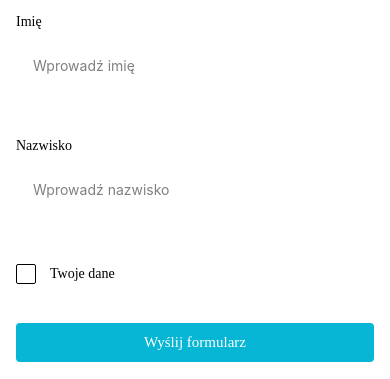
Test case: PersonalDataScreen - min error
The width and height of the screenshot is (390, 379).
Type "a" into the field with test id "input.name" at coordinates (195, 66), box [33,57,357,74]
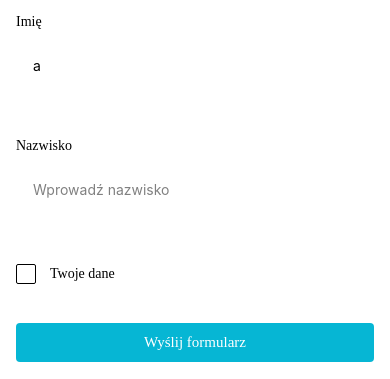
Type "a" into the field with test id "input.surname" at coordinates (195, 190), box [33,181,357,198]
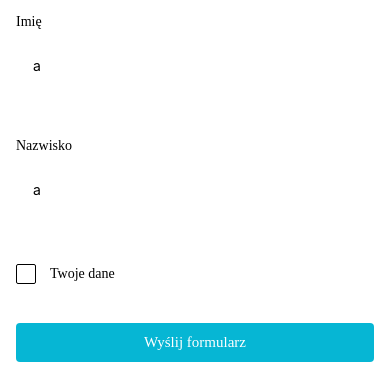
Click the button "Wyślij formularz" at coordinates (195, 342), box [16,323,374,362]
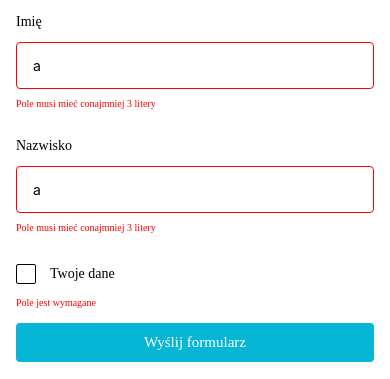
Now the text "Pole musi mieć conajmniej 3 litery" is shown 2 times, box [16,98,156,109]; [16,222,156,233]
